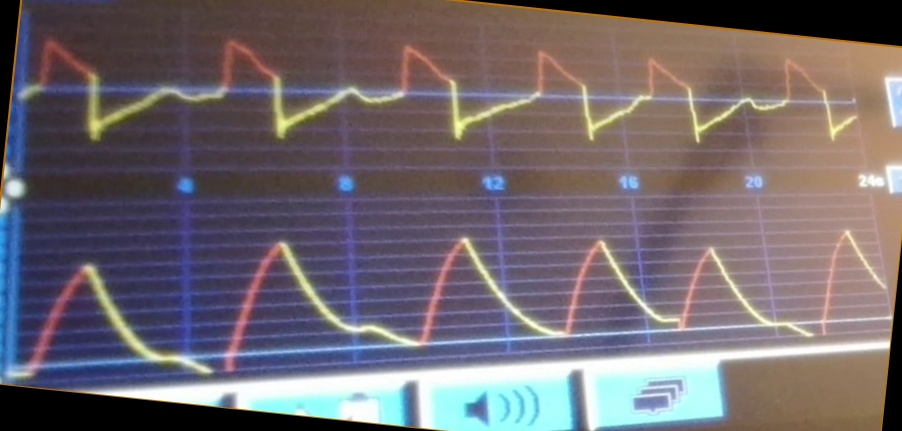Ineffective_effort Flow: (25, 35, 858, 152)
Ineffective_effort Volume: (20, 229, 885, 377)
